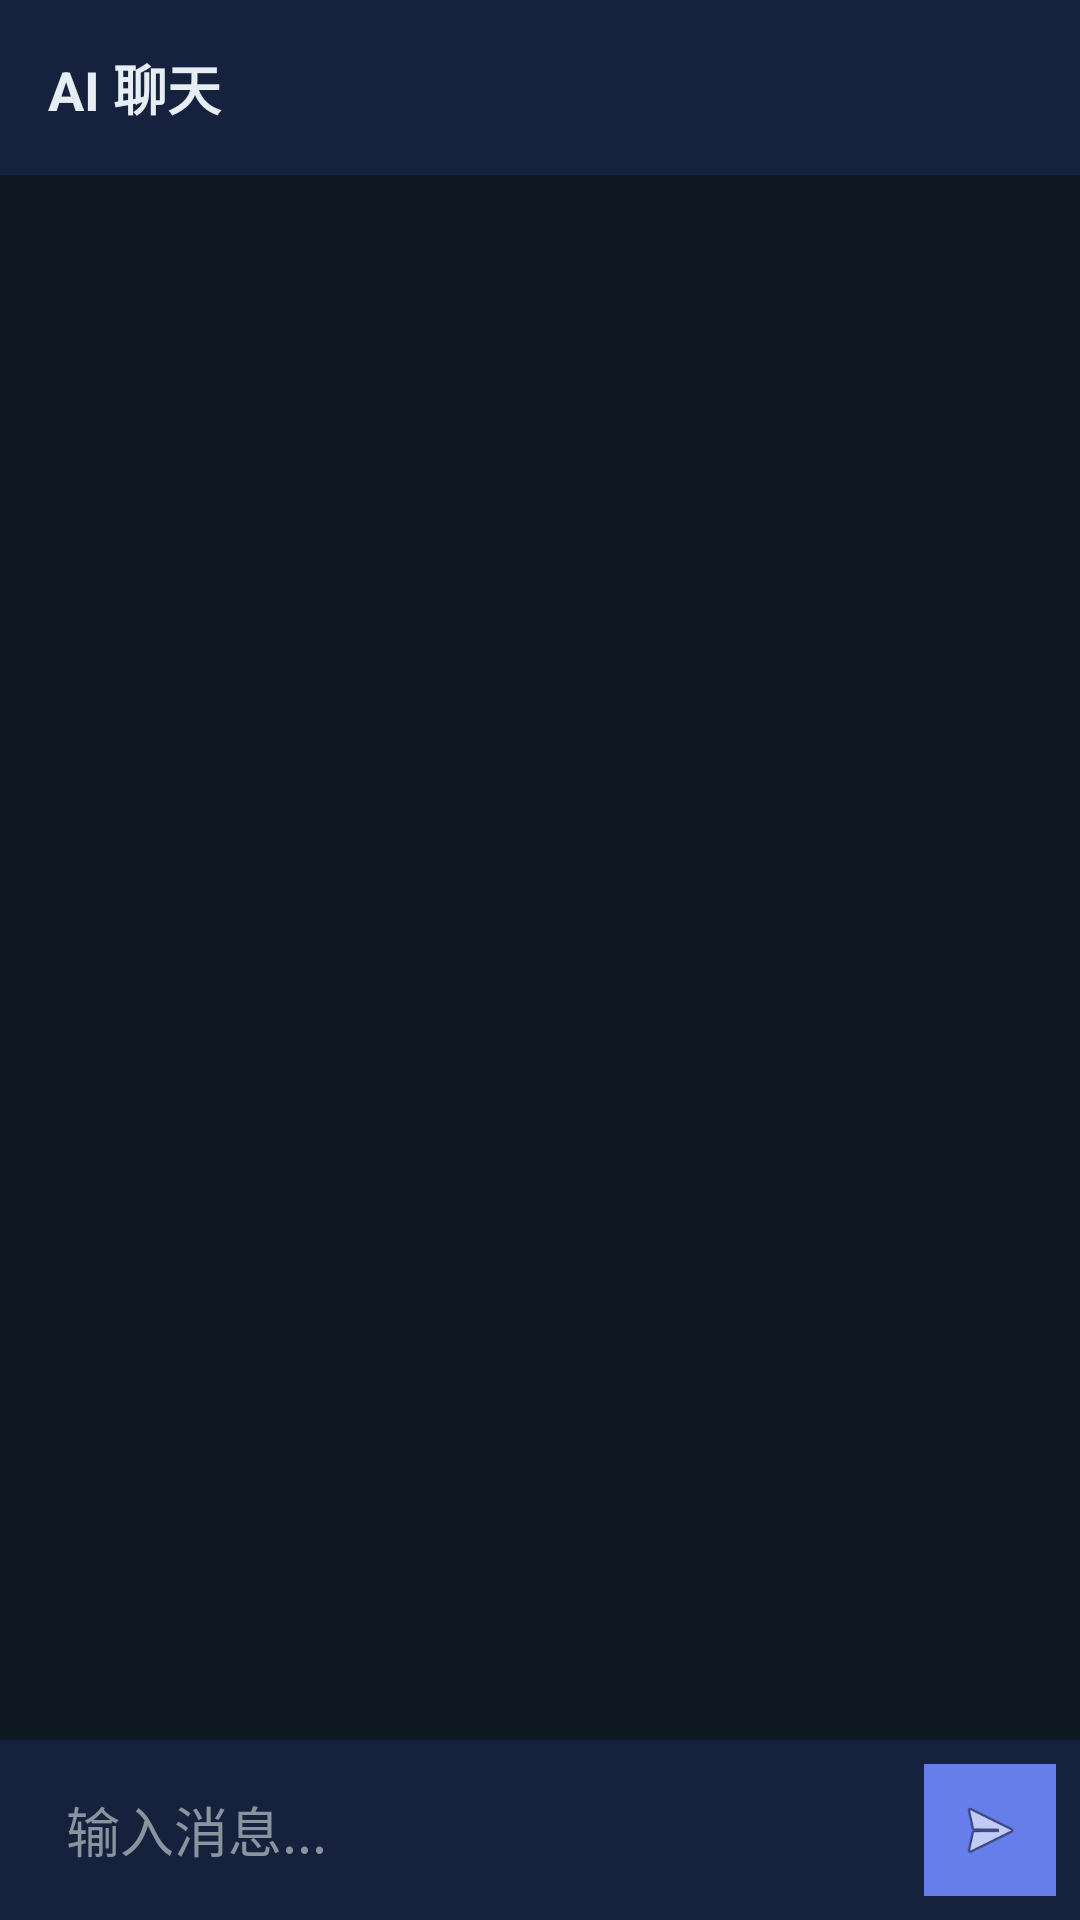

Icon bounding boxes for this 1080px×1920px phone screenshot, format (x1, y1, x2, y2):
发送: (924, 1764, 1056, 1896)
